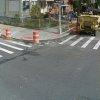Crosswalk: (59, 31, 100, 54)
